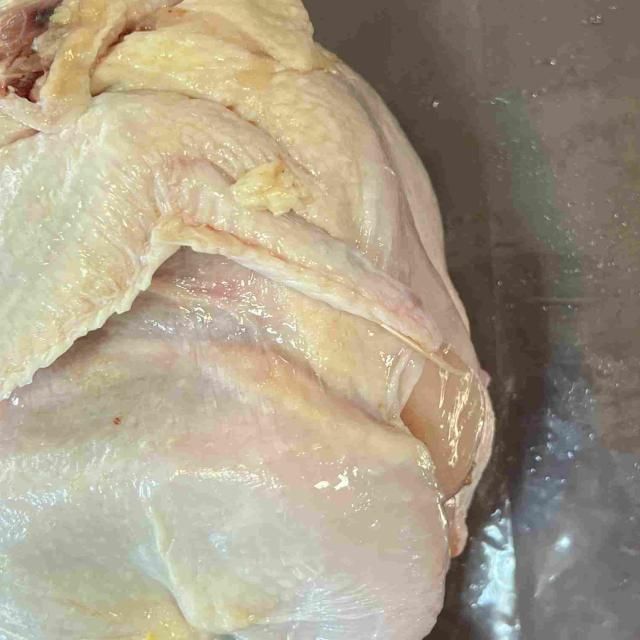leg: (93, 359, 448, 640)
wing: (0, 90, 433, 395)
